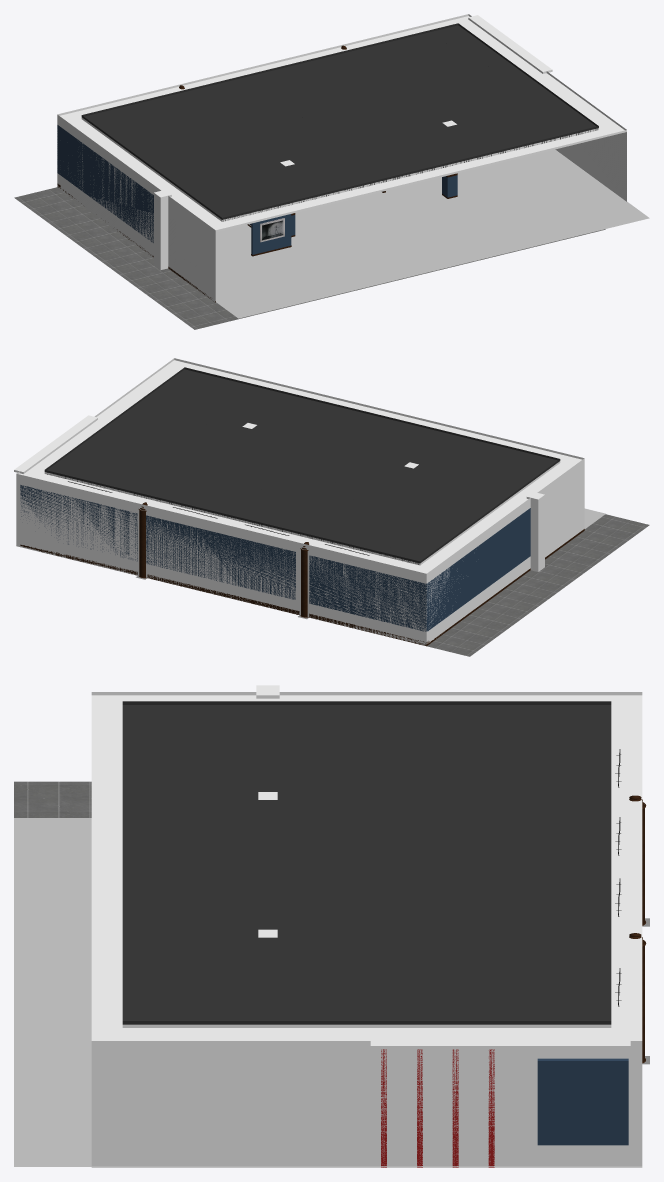
File: Gallery.obj
3 renders of one model, top to bottom at view 1: azimuth 30°, elevation 25°; view 2: azimuth 150°, elevation 25°; view 3: azimuth 270°, elevation 25°, orthographic. The views are drawn at different scales.
Visible parts, largest first — view 1: Obj3d66_684196_232_919, Obj3d66_684196_2_735, Obj3d66_684196_19_120, Obj3d66_684196_2_736, Obj3d66_684196_470_209, Obj3d66_684196_524_428, Obj3d66_684196_472_418, Obj3d66_684196_471_815, Obj3d66_684196_243_80, Obj3d66_684196_297_877; view 2: Obj3d66_684196_232_919, Obj3d66_684196_286_119, Obj3d66_684196_19_120, Obj3d66_684196_2_736, Obj3d66_684196_4_710, Obj3d66_684196_6_304, Obj3d66_684196_470_209, Obj3d66_684196_524_428, Obj3d66_684196_5_465, Obj3d66_684196_471_815, Obj3d66_684196_243_80, Obj3d66_684196_8_626 (+1 smaller); view 3: Obj3d66_684196_232_919, Obj3d66_684196_472_418, Obj3d66_684196_19_120, Obj3d66_684196_2_735, Obj3d66_684196_3_59, Obj3d66_684196_243_80, Obj3d66_684196_2_736, Obj3d66_684196_470_209, Obj3d66_684196_448_534, Obj3d66_684196_451_225, Obj3d66_684196_445_925, Obj3d66_684196_454_357.
Boxes of the visible parts, bbox=[...] form: Obj3d66_684196_232_919: bbox=[81, 23, 598, 219]; Obj3d66_684196_2_735: bbox=[215, 149, 649, 318]; Obj3d66_684196_19_120: bbox=[57, 14, 626, 231]; Obj3d66_684196_2_736: bbox=[14, 187, 605, 329]; Obj3d66_684196_470_209: bbox=[57, 114, 215, 302]; Obj3d66_684196_524_428: bbox=[58, 125, 153, 242]; Obj3d66_684196_472_418: bbox=[469, 15, 626, 201]; Obj3d66_684196_471_815: bbox=[154, 190, 171, 270]; Obj3d66_684196_243_80: bbox=[468, 15, 552, 73]; Obj3d66_684196_297_877: bbox=[251, 214, 291, 254]; Obj3d66_684196_232_919: bbox=[44, 367, 560, 563]; Obj3d66_684196_286_119: bbox=[16, 474, 426, 645]; Obj3d66_684196_19_120: bbox=[16, 358, 584, 575]; Obj3d66_684196_2_736: bbox=[427, 514, 649, 656]; Obj3d66_684196_4_710: bbox=[146, 515, 295, 599]; Obj3d66_684196_6_304: bbox=[309, 555, 427, 631]; Obj3d66_684196_470_209: bbox=[426, 458, 584, 643]; Obj3d66_684196_524_428: bbox=[427, 508, 530, 630]; Obj3d66_684196_5_465: bbox=[20, 485, 137, 561]; Obj3d66_684196_471_815: bbox=[526, 492, 544, 571]; Obj3d66_684196_243_80: bbox=[14, 415, 97, 473]; Obj3d66_684196_8_626: bbox=[139, 510, 145, 577]; Obj3d66_684196_232_919: bbox=[122, 701, 611, 1024]; Obj3d66_684196_472_418: bbox=[91, 1041, 642, 1167]; Obj3d66_684196_19_120: bbox=[91, 692, 642, 1044]; Obj3d66_684196_2_735: bbox=[14, 818, 642, 1166]; Obj3d66_684196_3_59: bbox=[537, 1058, 628, 1145]; Obj3d66_684196_243_80: bbox=[370, 1037, 630, 1049]; Obj3d66_684196_2_736: bbox=[14, 781, 91, 817]; Obj3d66_684196_470_209: bbox=[92, 692, 641, 695]; Obj3d66_684196_448_534: bbox=[452, 1049, 458, 1167]; Obj3d66_684196_451_225: bbox=[488, 1049, 494, 1167]; Obj3d66_684196_445_925: bbox=[417, 1049, 422, 1167]; Obj3d66_684196_454_357: bbox=[381, 1049, 386, 1167].
Bounding box in the file's own units: 23841 × 3724 × 16400.
